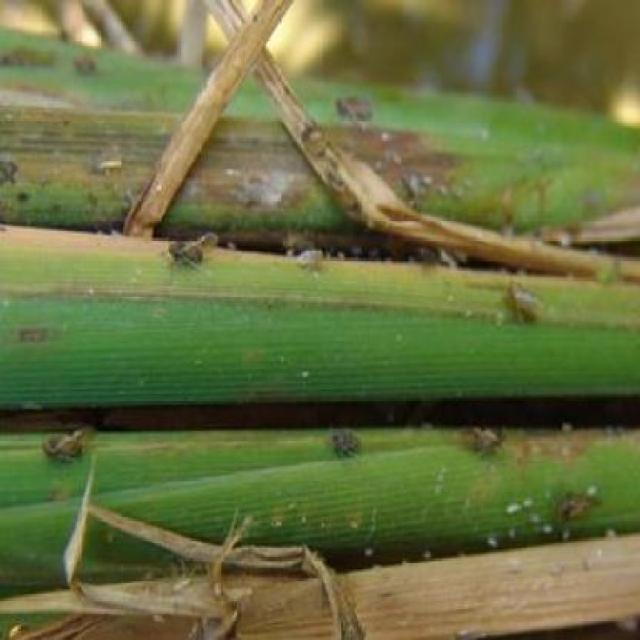brown-planthopper: (162, 228, 220, 272), (44, 428, 91, 466), (503, 284, 542, 328), (332, 88, 376, 123), (554, 492, 594, 519), (330, 429, 362, 462), (474, 424, 504, 456), (295, 247, 327, 276)
